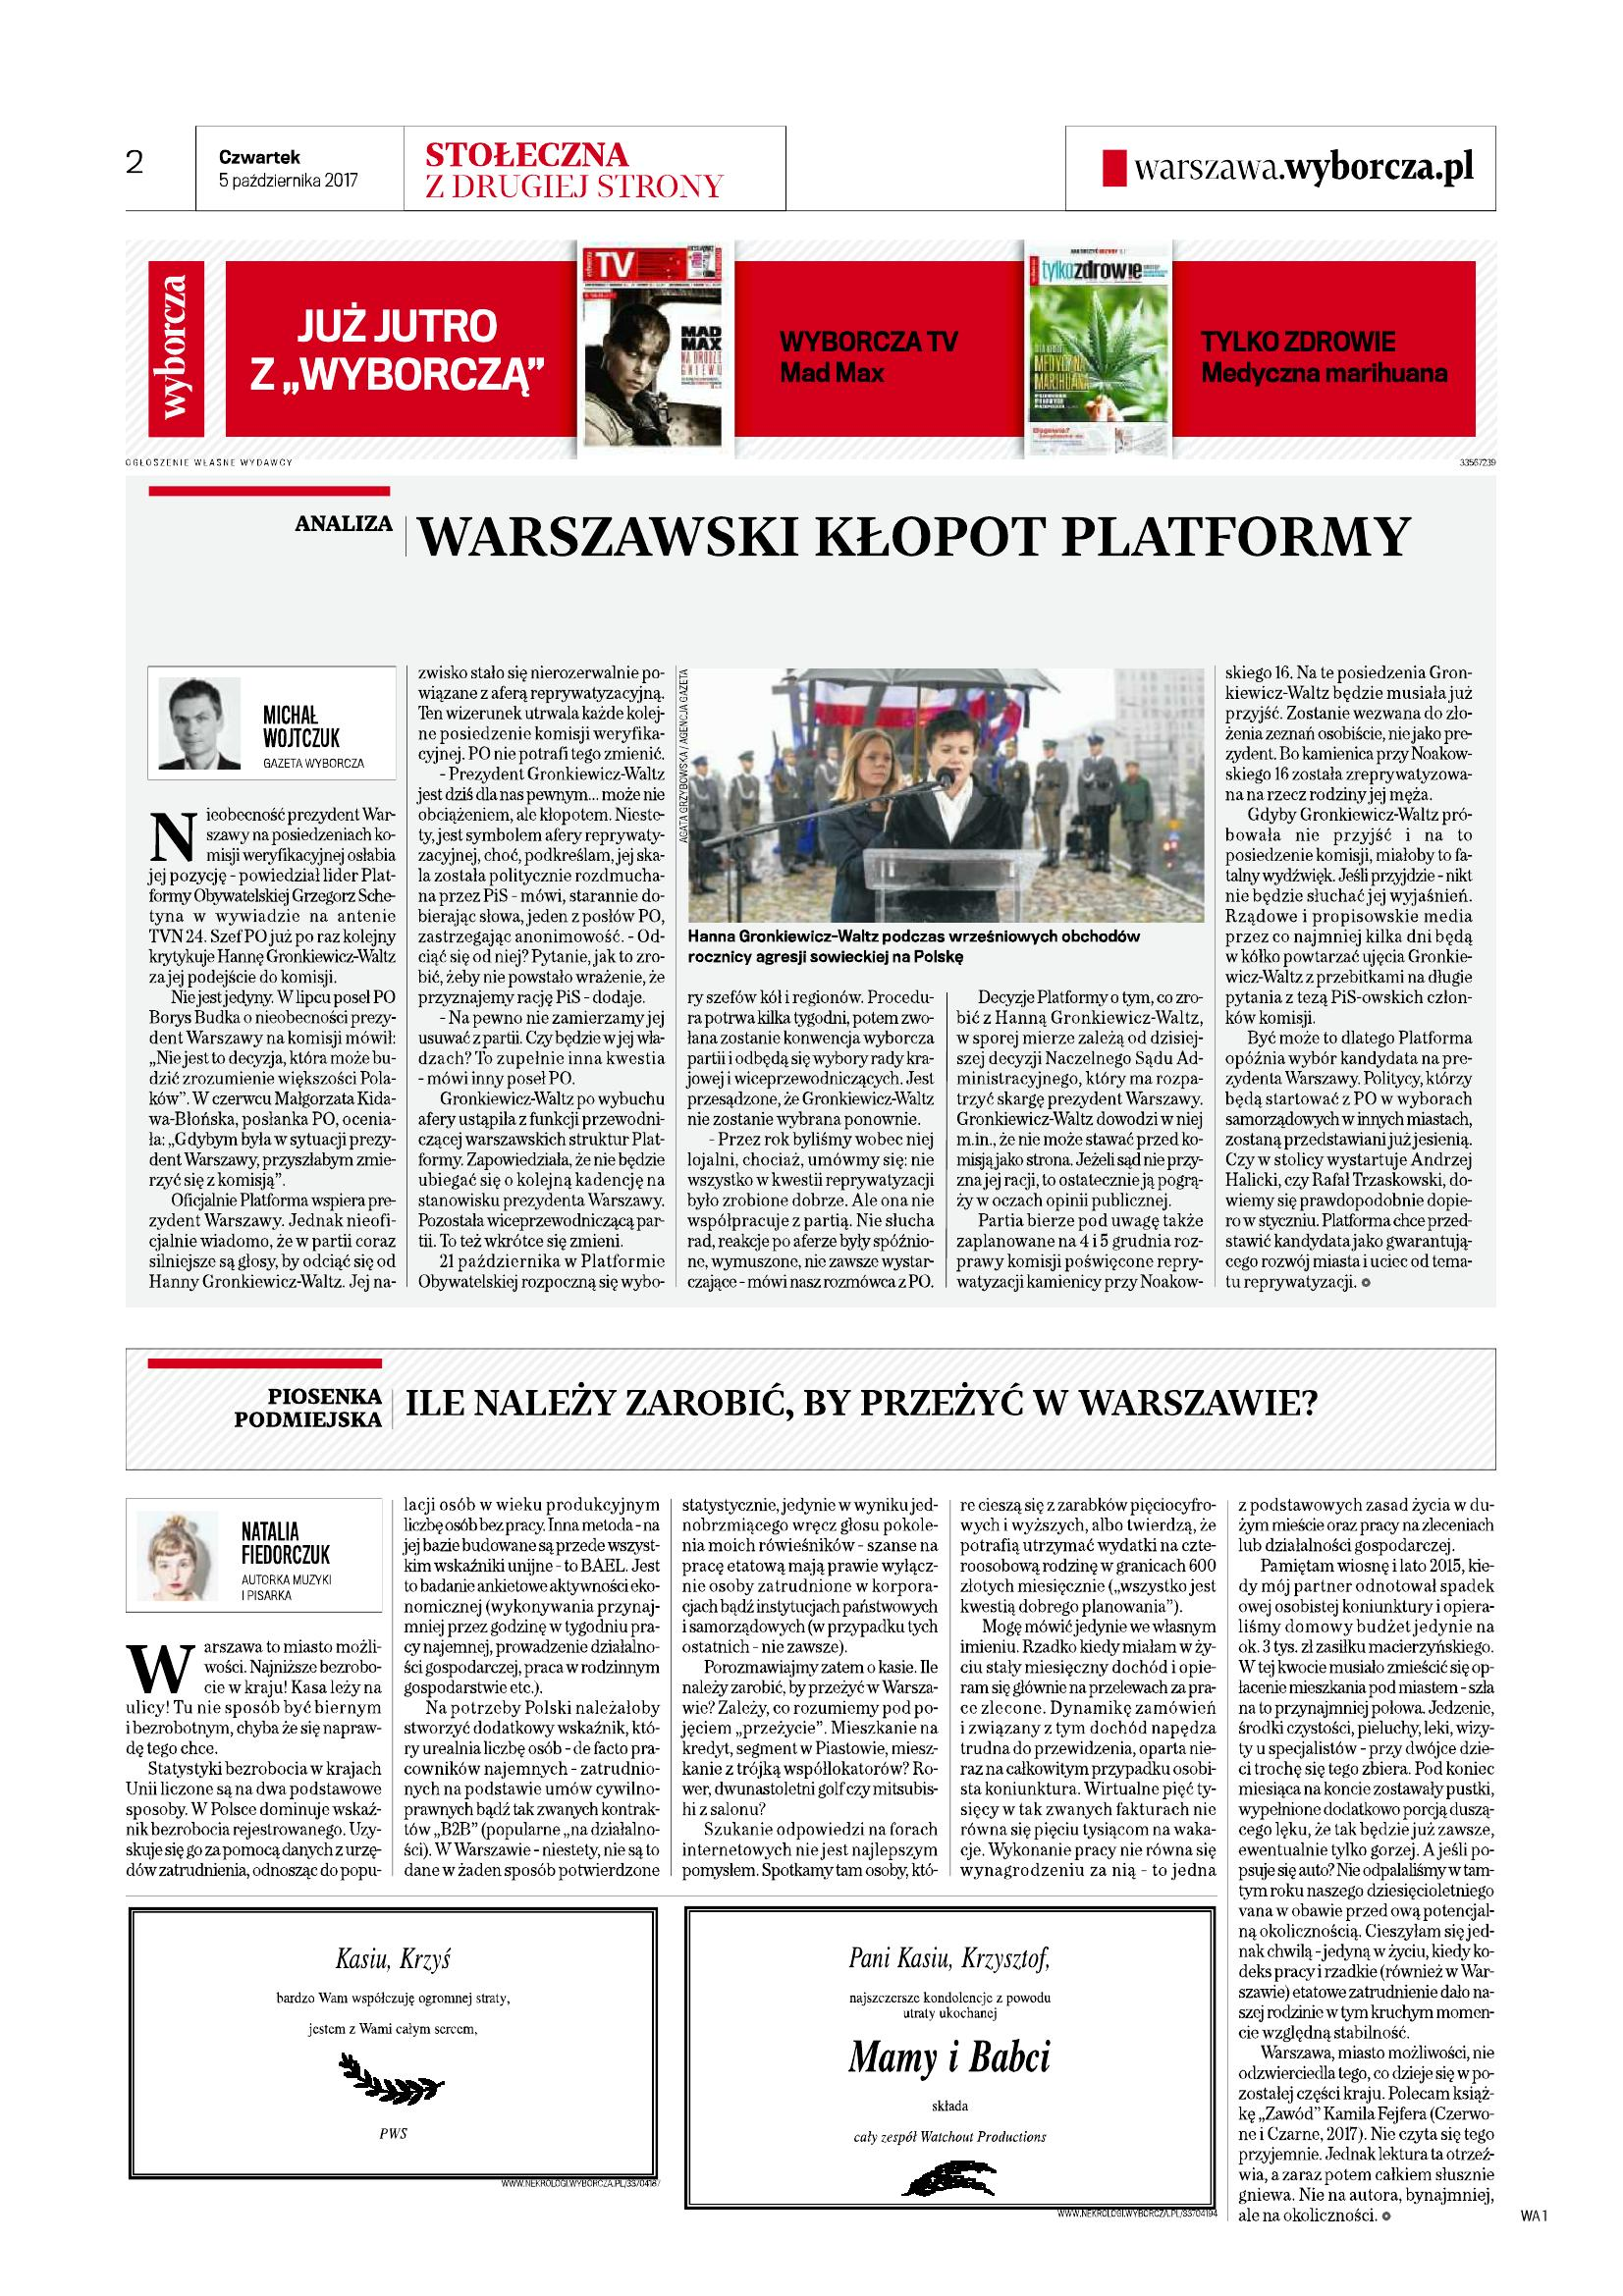article: (132, 1355, 1500, 2228), (137, 481, 1477, 1306)
